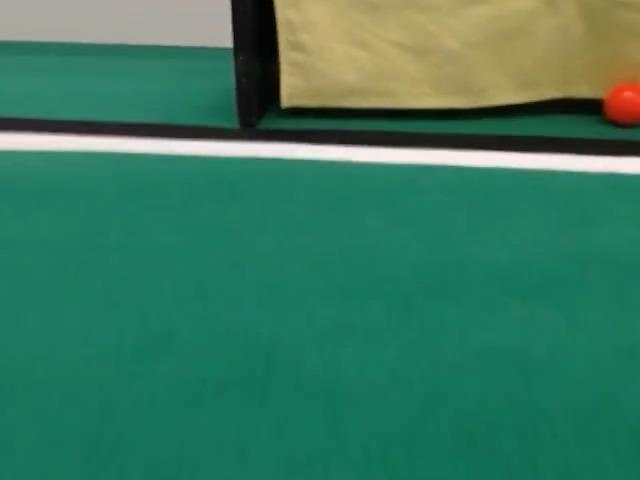Ball: (603, 83, 639, 126)
